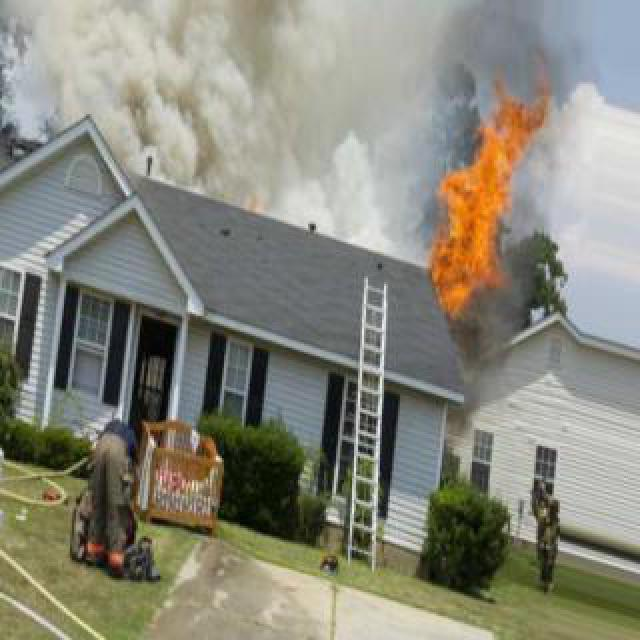Fire: (430, 94, 540, 308)
Smoke: (30, 4, 416, 166)
